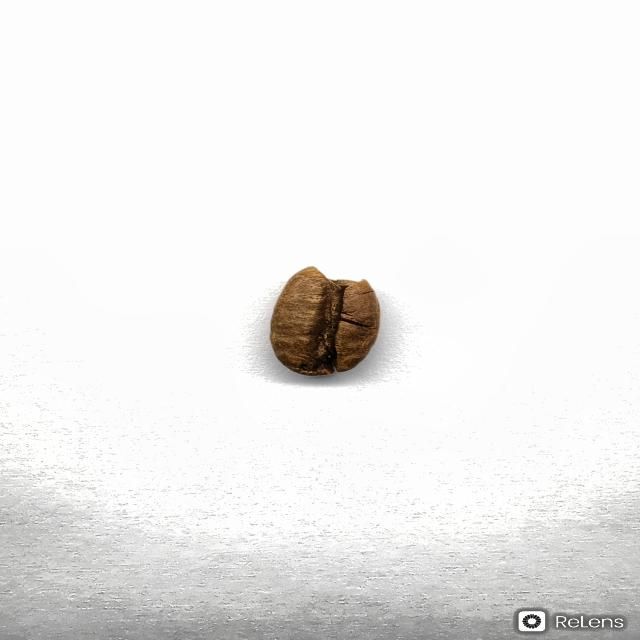Broken: (268, 265, 381, 376)
